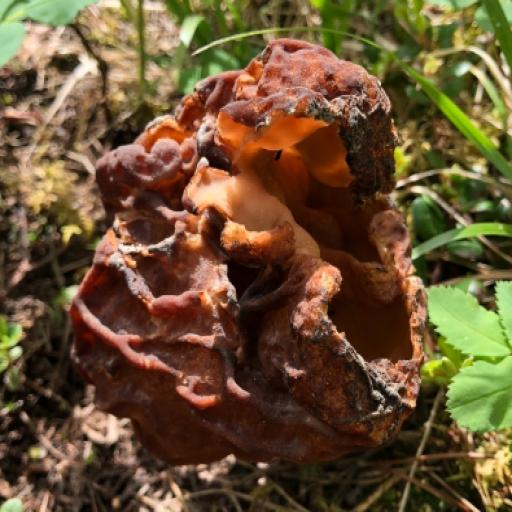False Morel: (66, 31, 455, 472)
